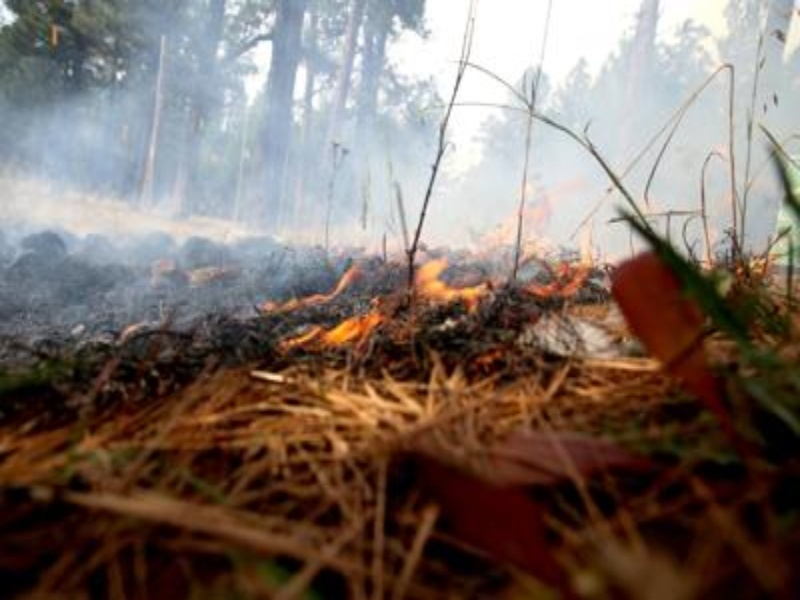smoke: (1, 77, 703, 247)
